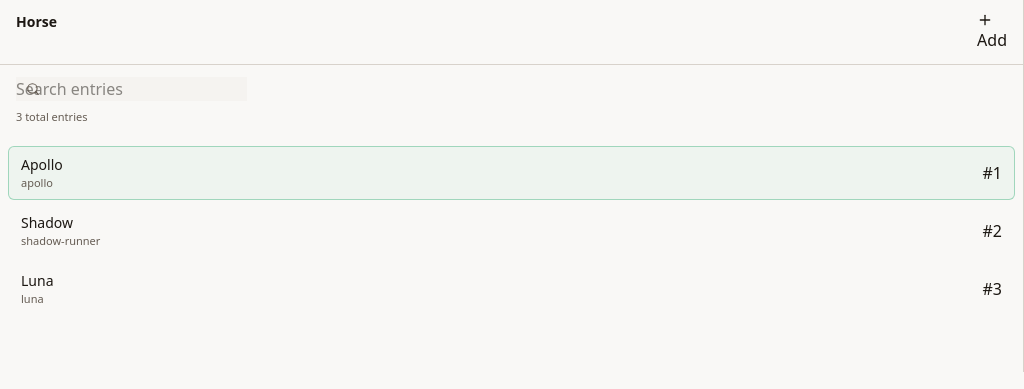
CmsEntriesSidebar › filters entries by title and key
The image size is (1024, 389).
Type "runner" into the field labelled "Search entries".
click(132, 89); type("runner")  # box [16,77,247,101]
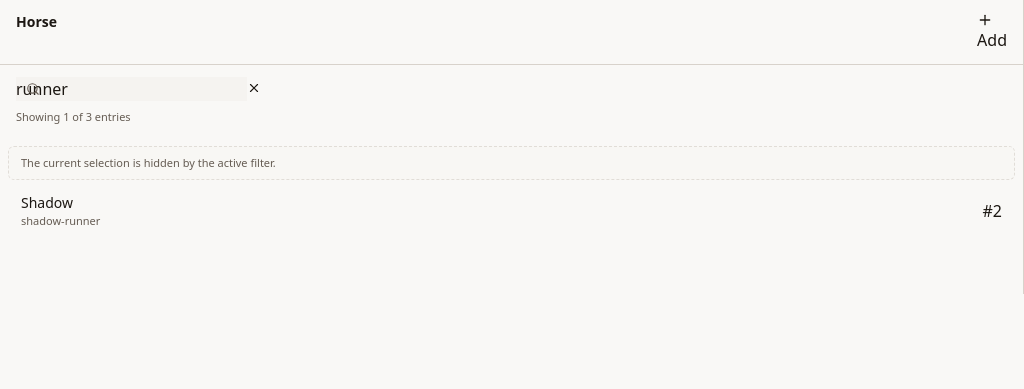
Expected: the button "Apollo" is gone
Expected: the button "Luna" is gone
Expected: the text "Showing 1 of 3 entries" is shown, [16,109,131,124]
